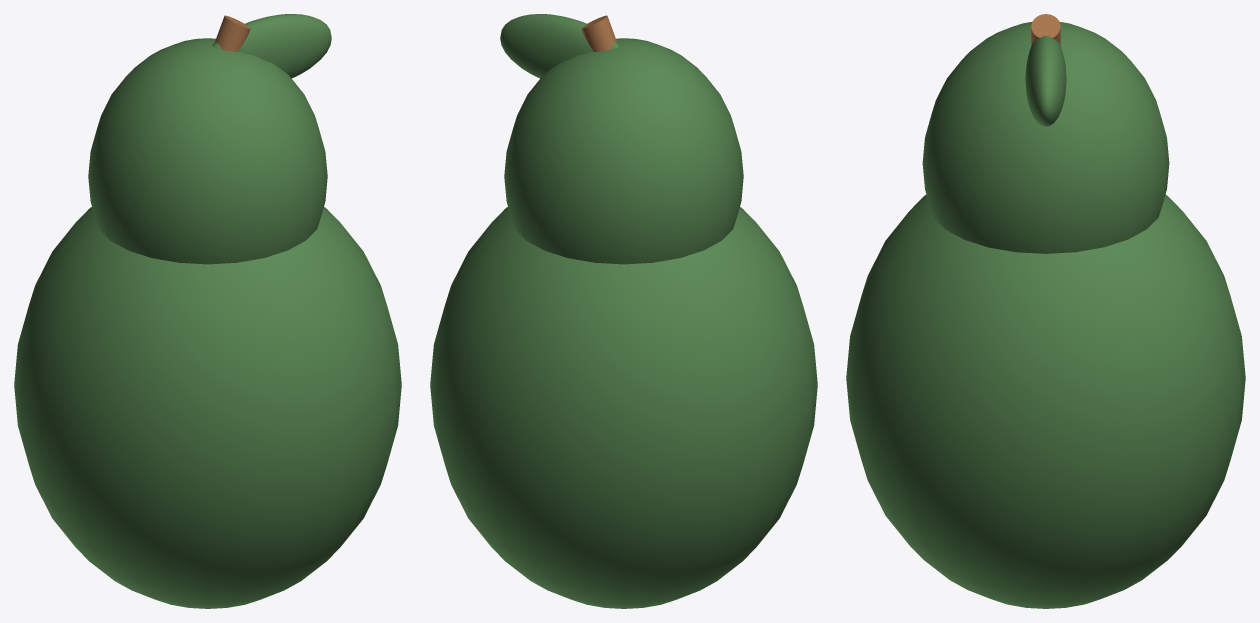
File: wp-poire.glb
3 views of the same model, side by side, from view 1: azimuth 30°, elevation 25°; view 2: azimuth 150°, elevation 25°; view 3: azimuth 270°, elevation 25° (orthographic). The views are drawn at different scales.
Visible parts, largest first — view 1: wp-poire; view 2: wp-poire; view 3: wp-poire.
Part boxes in pixels (x1,y1,x2,y2): wp-poire: (14,14,401,608); wp-poire: (430,14,817,608); wp-poire: (846,14,1245,608).
Bounding box in the file's own units: 0.08 × 0.13 × 0.08.
